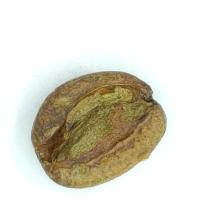NG: (41, 76, 158, 170)
